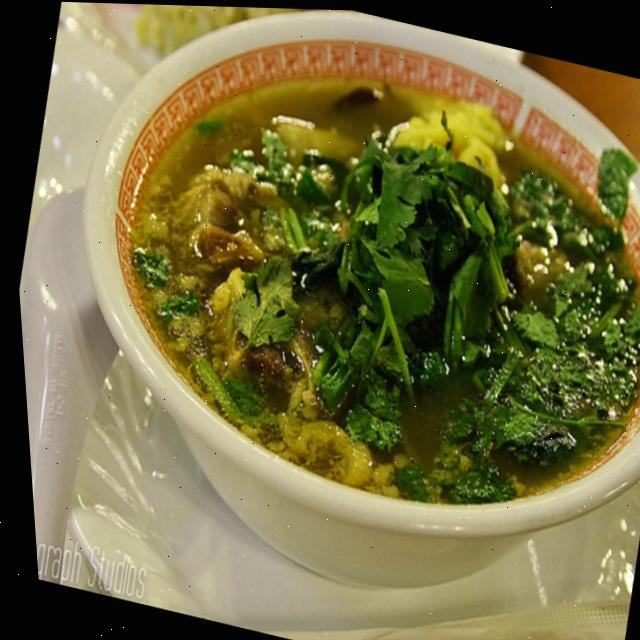汤锅炖物: (47, 1, 640, 578)
